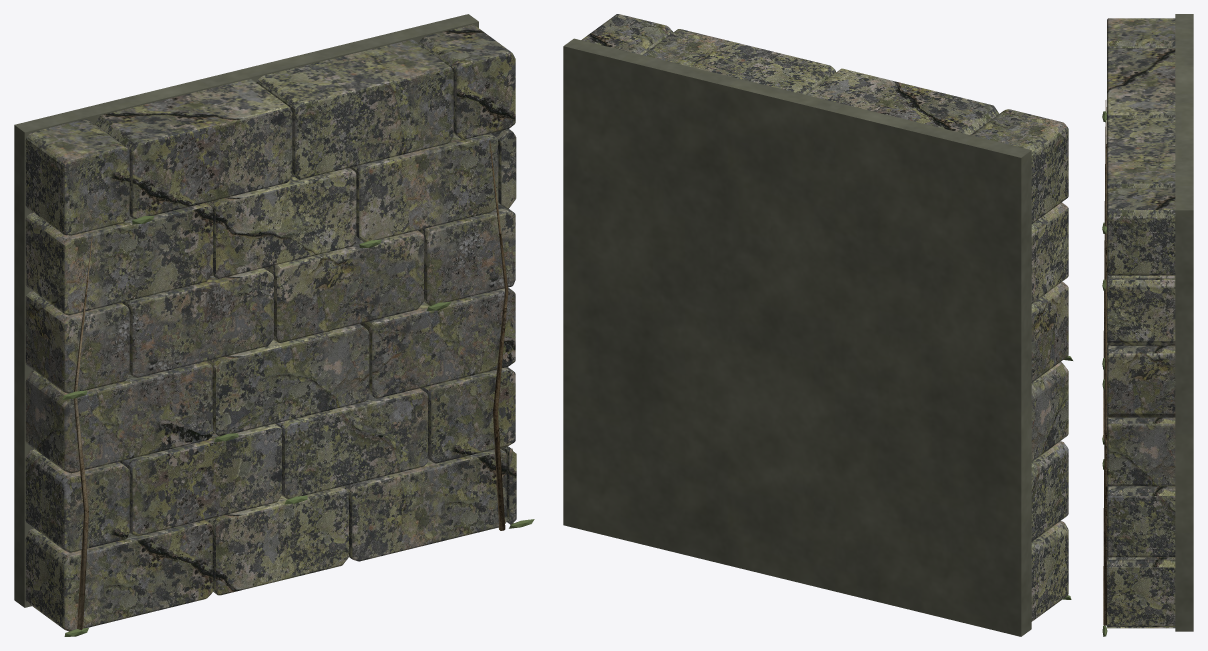
The model's file is v6_wall_c.glb.
3 renders of one model, left to right at view 1: azimuth 30°, elevation 25°; view 2: azimuth 150°, elevation 25°; view 3: azimuth 270°, elevation 25°, orthographic. The views are drawn at different scales.
Parts seen in each view (by area): view 1: sacred_weathered_stone_surface, sacred_earth_mortar_surface, sacred_root_bark_surface, sacred_velvet_moss_surface; view 2: sacred_earth_mortar_surface, sacred_weathered_stone_surface; view 3: sacred_weathered_stone_surface, sacred_earth_mortar_surface, sacred_root_bark_surface, sacred_velvet_moss_surface.
Boxes of the visible parts, x1,y1,x2,y2 form: sacred_weathered_stone_surface: (25,24,516,631); sacred_earth_mortar_surface: (14,14,478,607); sacred_root_bark_surface: (73,140,508,630); sacred_velvet_moss_surface: (62,216,534,636); sacred_earth_mortar_surface: (563,38,1031,636); sacred_weathered_stone_surface: (581,14,1068,621); sacred_weathered_stone_surface: (1107,18,1175,628); sacred_earth_mortar_surface: (1175,14,1193,631); sacred_root_bark_surface: (1103,100,1107,625); sacred_velvet_moss_surface: (1102,111,1107,636).
Bounding box in the file's own units: 4.16 × 4.02 × 0.7886.
4 materials, 4 textured.
